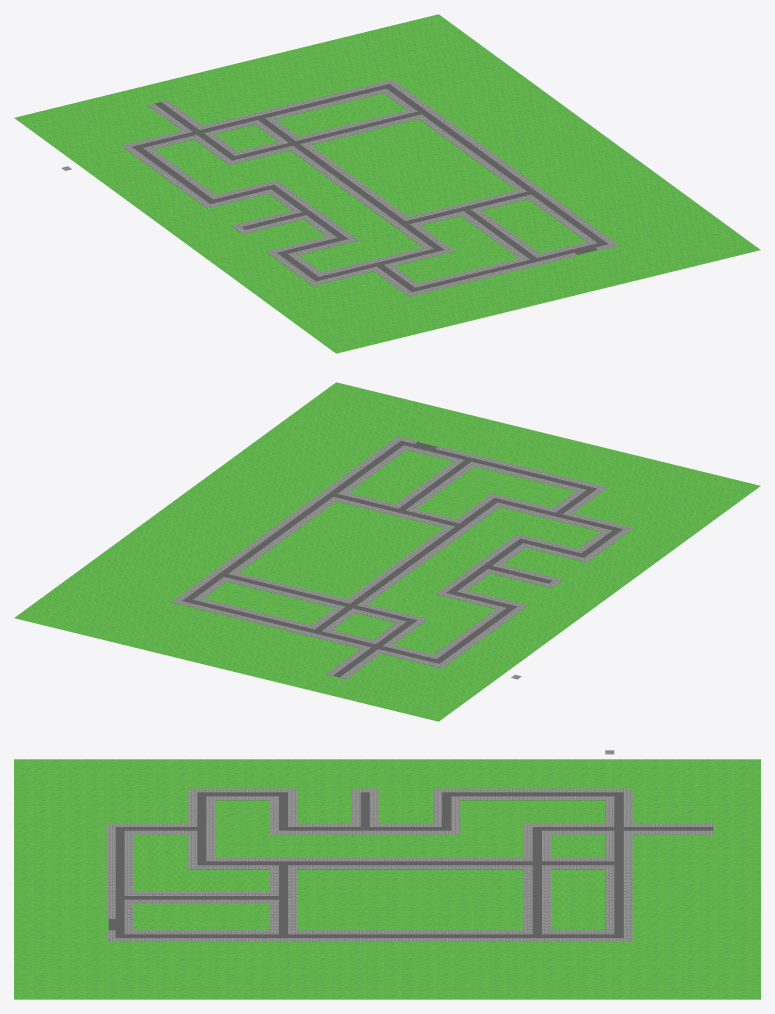
Rendered from floor.fbx.
3 renders of one model, top to bottom at view 1: azimuth 30°, elevation 25°; view 2: azimuth 150°, elevation 25°; view 3: azimuth 270°, elevation 25°, orthographic. The views are drawn at different scales.
Visible parts, largest first — view 1: Ground, sideWalk; view 2: Ground, sideWalk; view 3: Ground, sideWalk.
Part boxes in pixels (left/top/right/bottom): Ground: left=14, top=14, right=760, bottom=353; sideWalk: left=61, top=79, right=618, bottom=296; Ground: left=14, top=382, right=760, bottom=721; sideWalk: left=171, top=436, right=633, bottom=679; Ground: left=14, top=759, right=760, bottom=999; sideWalk: left=106, top=750, right=714, bottom=941.
Bounding box in the file's own units: 6503 × 3.07 × 8238.
